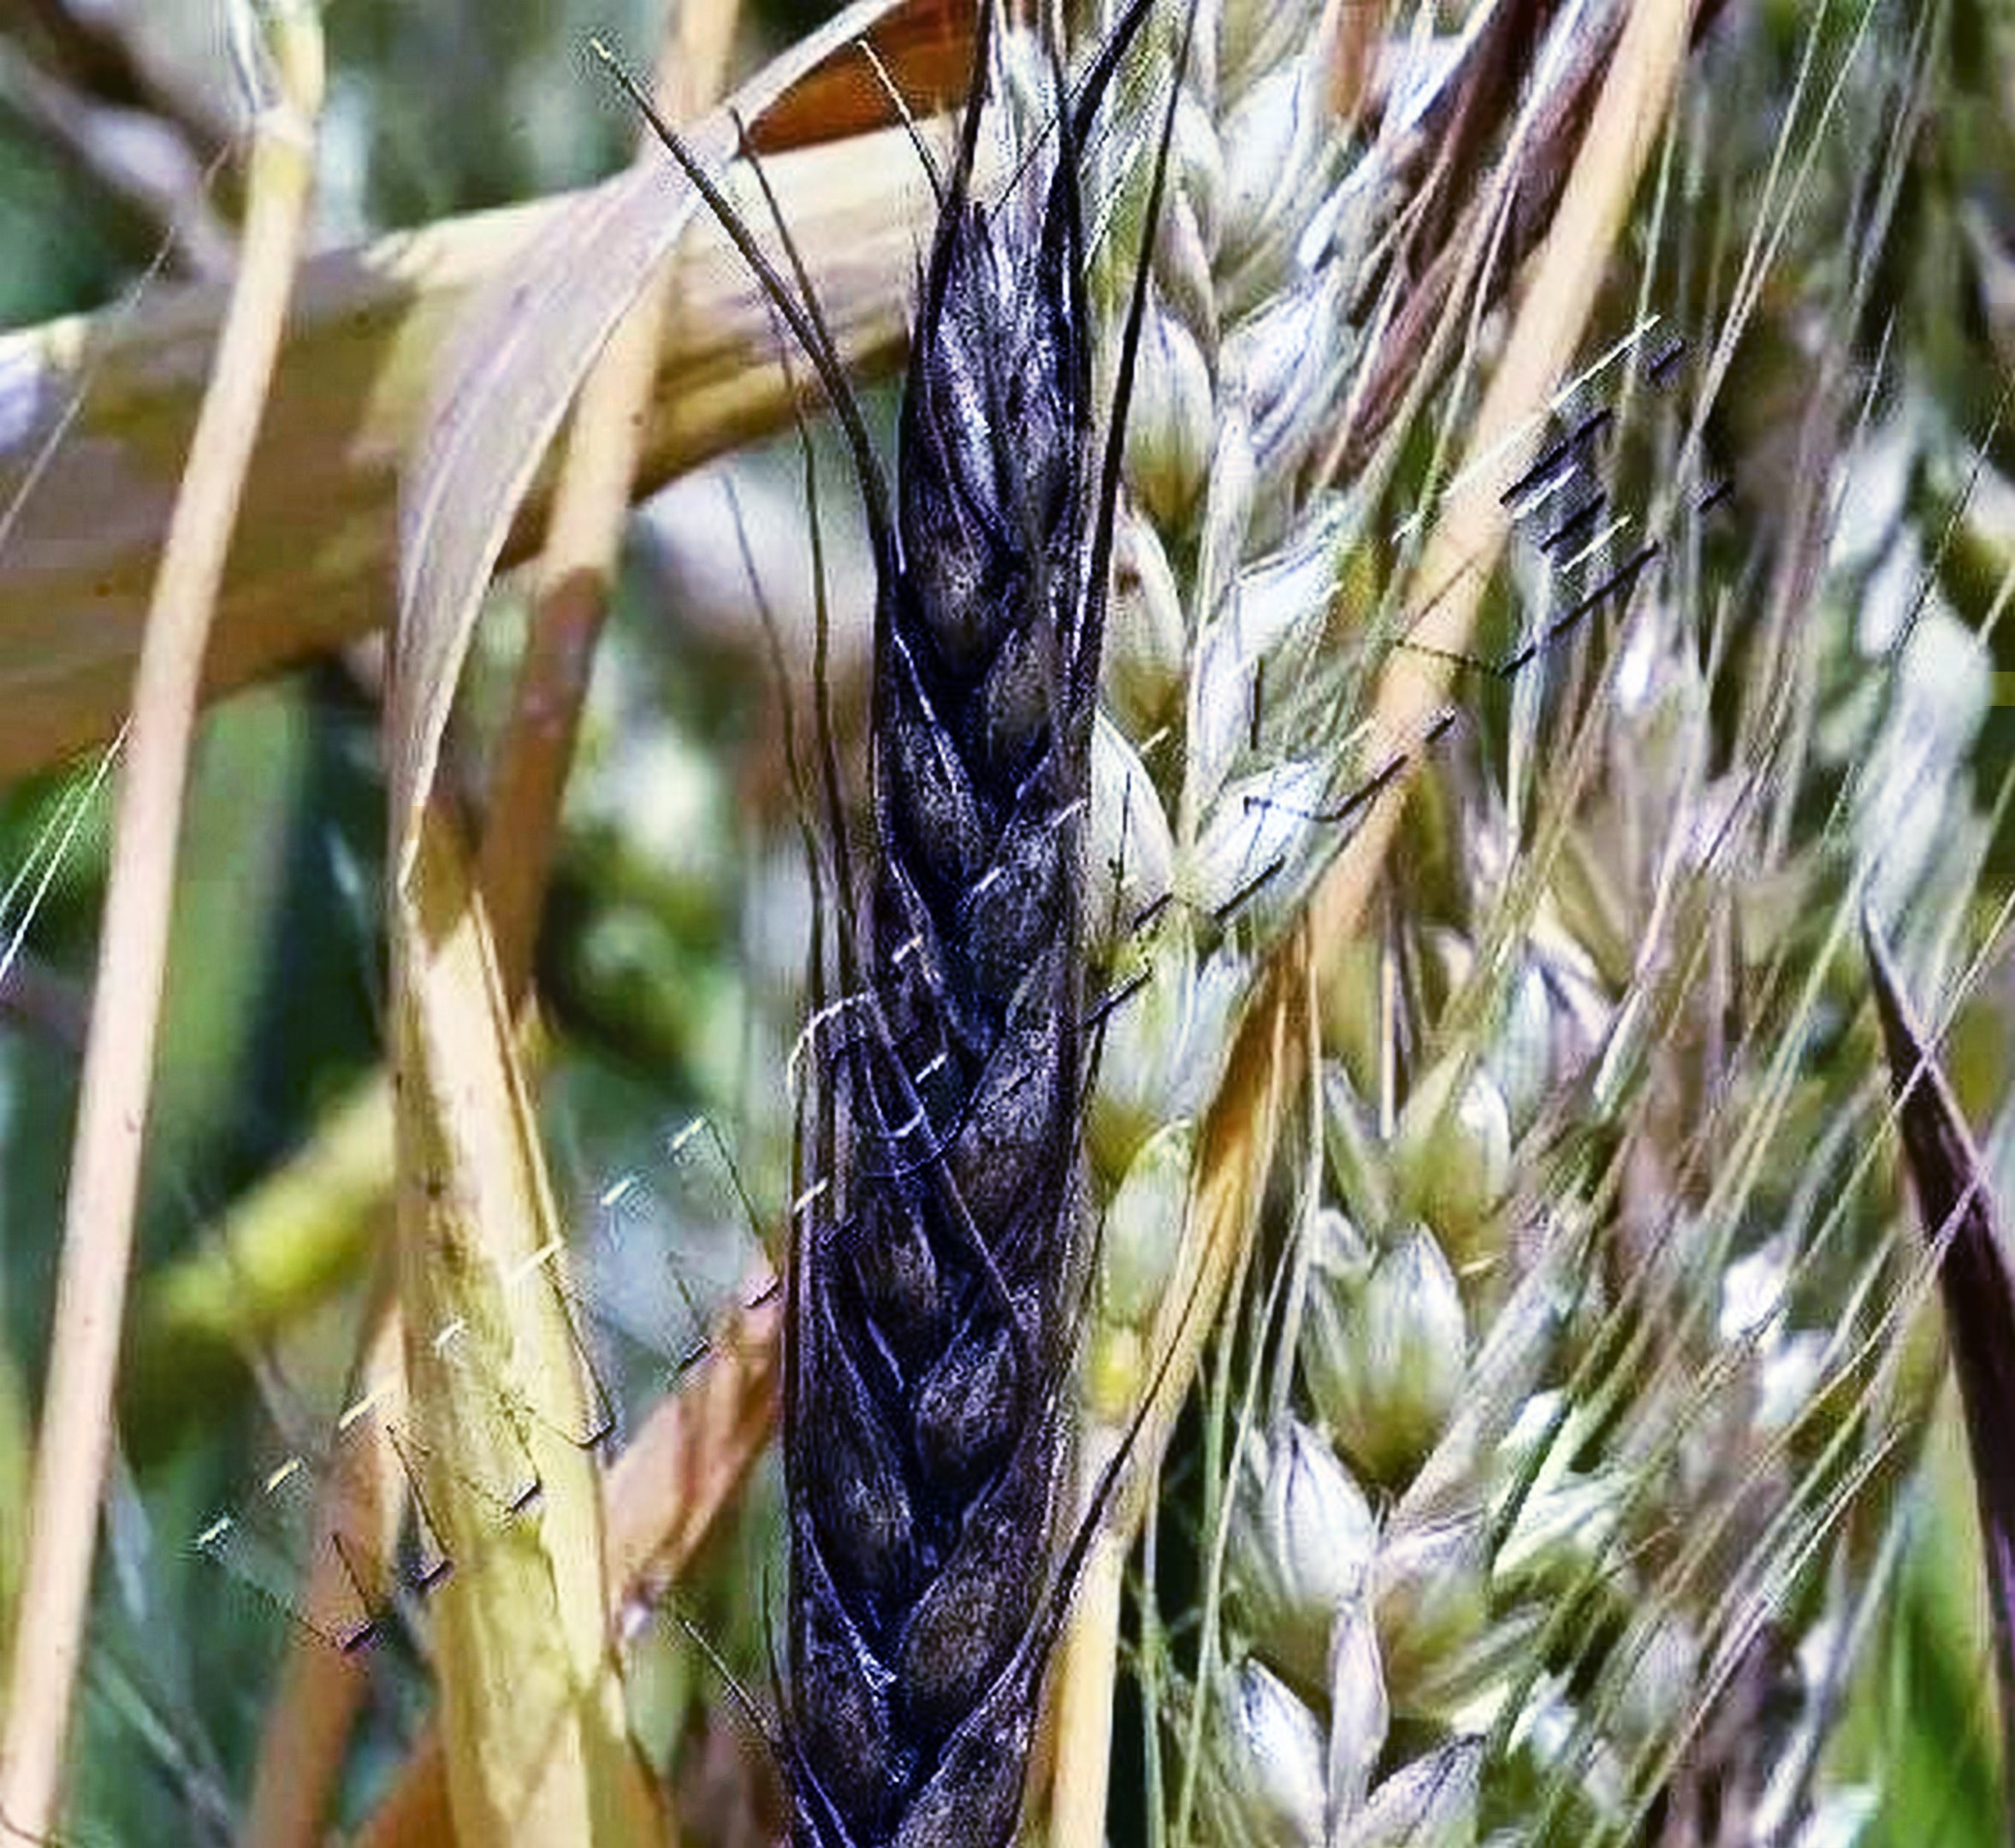Wheat Loose Smut: (742, 207, 1108, 1848)
